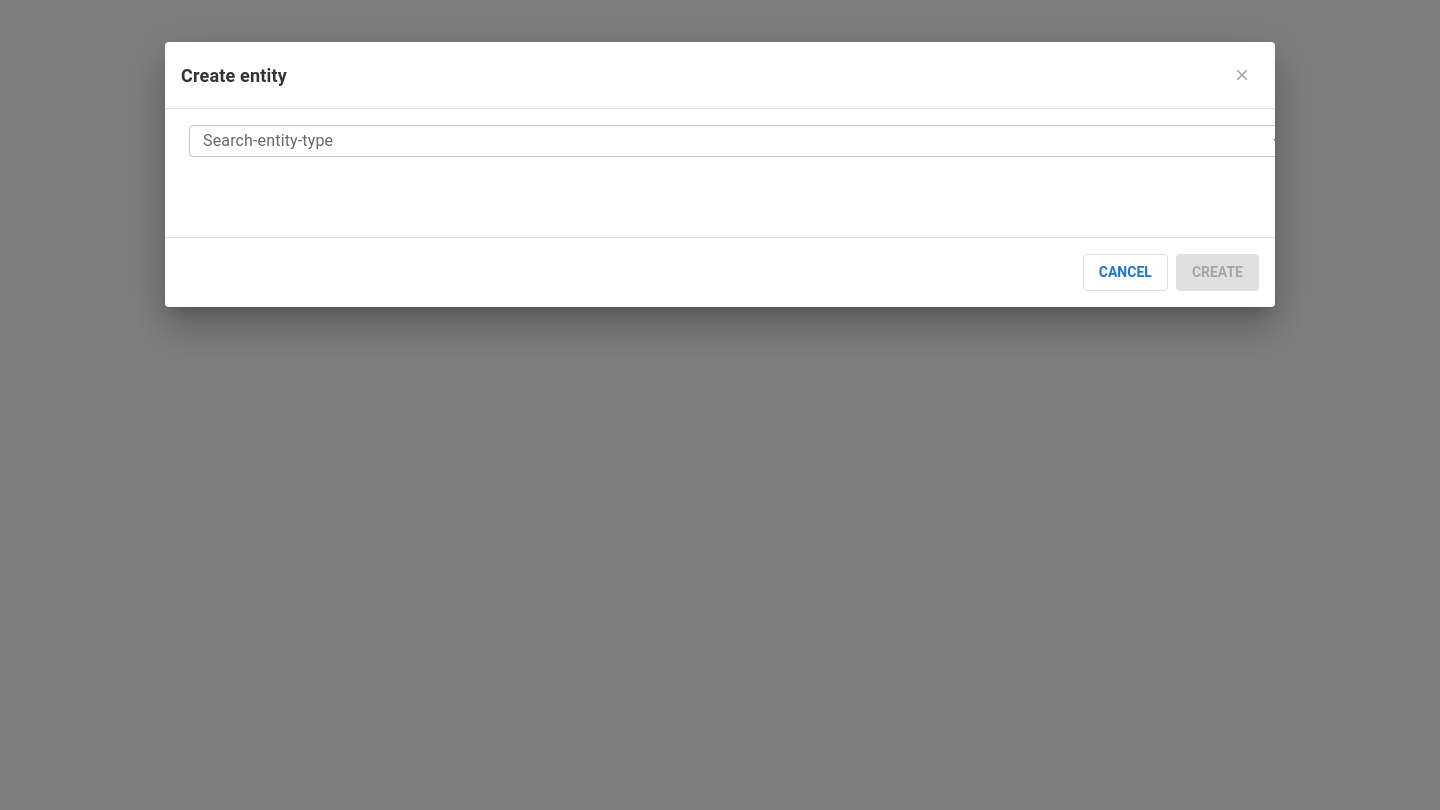
Scenario: EntityForm - 100% Coverage › Entity Type Selection › shows all entity types when session config is wildcard
Press the mouse on the dropdown labelled "Search-entity-type" at x=730, y=141, box [193,127,1267,155]
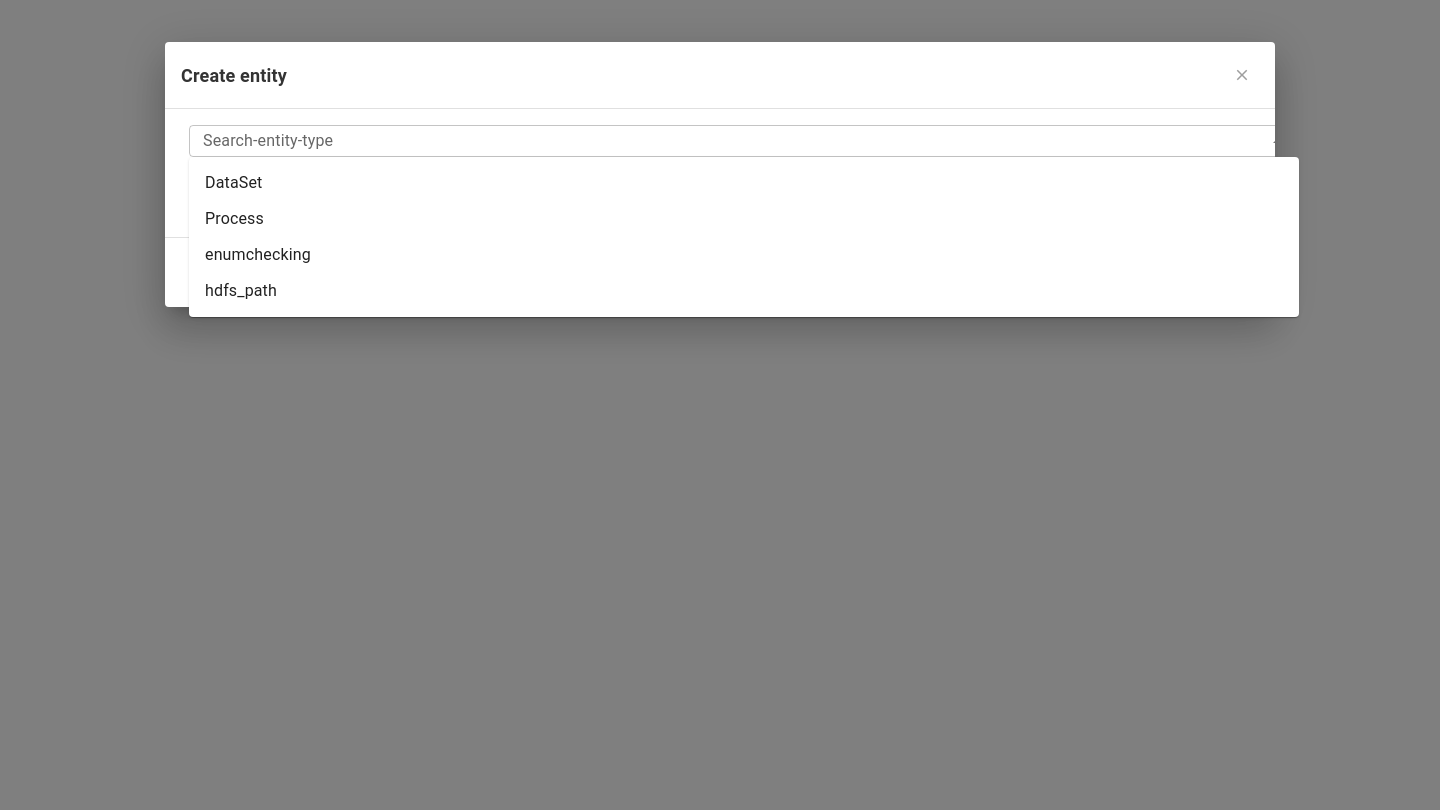
Now the option "enumchecking" is shown, box [205,245,311,264]
Now the option "DataSet" is shown, box [205,173,262,192]
